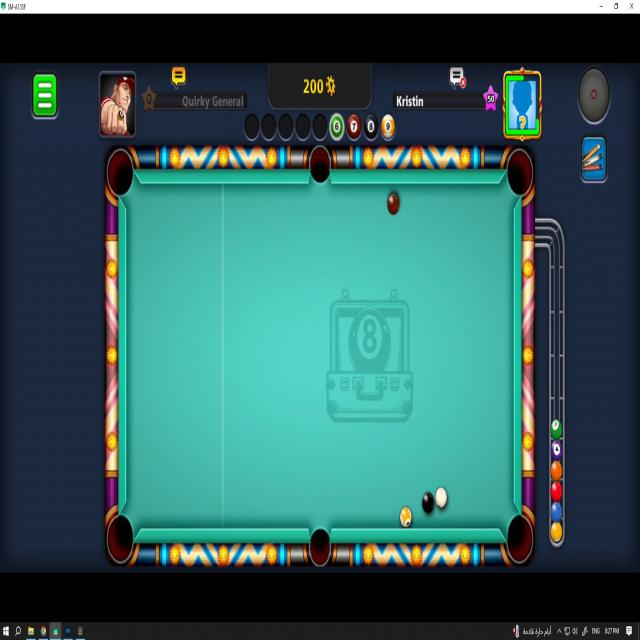object_ball: (422, 492, 434, 513), (388, 194, 399, 215), (400, 507, 411, 527)
white_cue_ball: (435, 488, 446, 508)
